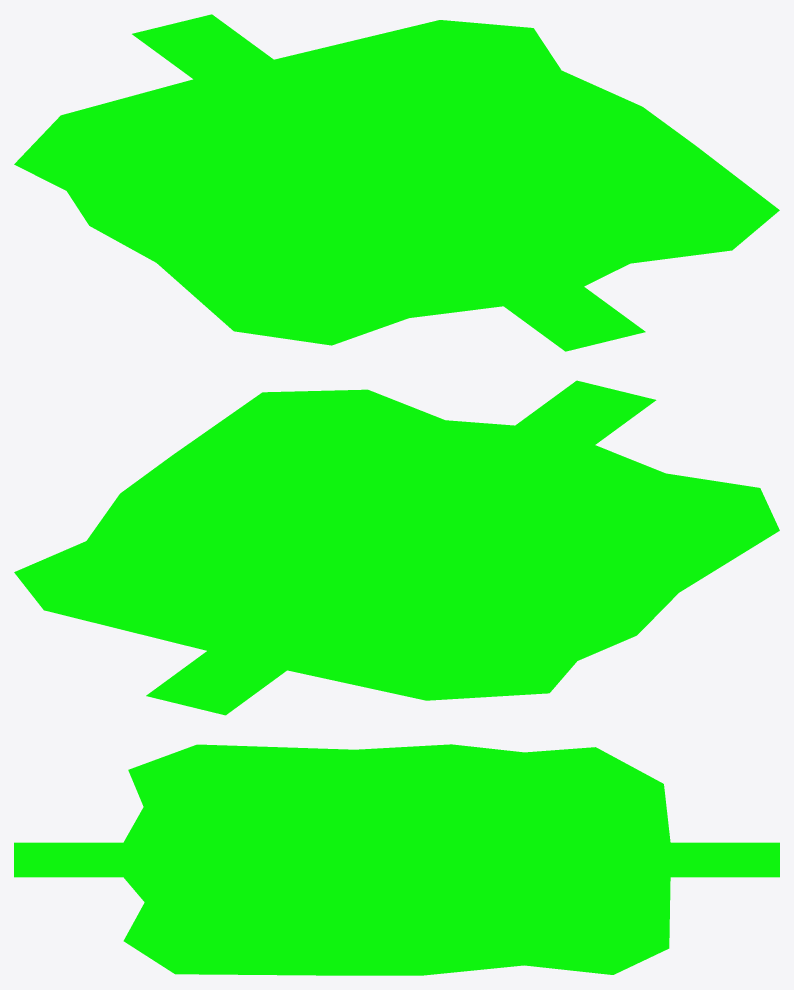
The model's file is s04e_ia1-floor.glb.
The picture shows the model from 3 angles, top to bottom: view 1: azimuth 30°, elevation 25°; view 2: azimuth 150°, elevation 25°; view 3: azimuth 270°, elevation 25°; orthographic projection. The views are drawn at different scales.
Visible parts, largest first — view 1: collision_floor-colonly; view 2: collision_floor-colonly; view 3: collision_floor-colonly.
Part boxes in pixels (<box>): collision_floor-colonly: <box>14,14,779,351</box>; collision_floor-colonly: <box>14,380,779,715</box>; collision_floor-colonly: <box>14,744,779,975</box>.
Size of the model in its own units: 40 by 0 by 56.
